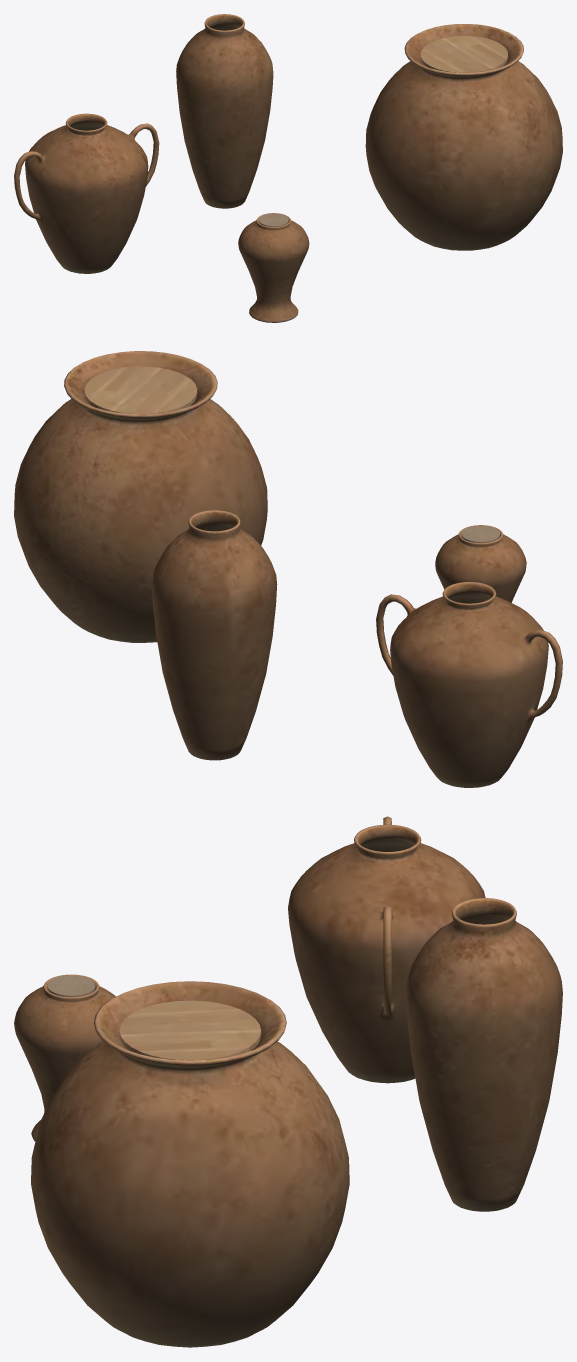
File: p_pots_old.glb
The picture shows the model from 3 angles, top to bottom: view 1: azimuth 30°, elevation 25°; view 2: azimuth 150°, elevation 25°; view 3: azimuth 270°, elevation 25°; orthographic projection. The views are drawn at different scales.
Parts seen in each view (by area): view 1: Pot_Large-Lid, Pot_Handles, Pot_SkinnyTall, Pot_Small-Lid, Lid_Large; view 2: Pot_Large-Lid, Pot_Handles, Pot_SkinnyTall, Lid_Large, Pot_Small-Lid, Lid_Small; view 3: Pot_Large-Lid, Pot_SkinnyTall, Pot_Handles, Lid_Large, Pot_Small-Lid, Lid_Small.
Boxes of the visible parts, bbox=[...] form: Pot_Large-Lid: bbox=[365, 24, 562, 250]; Pot_Handles: bbox=[14, 113, 159, 273]; Pot_SkinnyTall: bbox=[176, 14, 273, 208]; Pot_Small-Lid: bbox=[238, 213, 309, 322]; Lid_Large: bbox=[420, 35, 508, 72]; Pot_Large-Lid: bbox=[14, 351, 267, 642]; Pot_Handles: bbox=[376, 582, 562, 787]; Pot_SkinnyTall: bbox=[152, 510, 277, 760]; Lid_Large: bbox=[84, 366, 197, 414]; Pot_Small-Lid: bbox=[435, 525, 526, 602]; Lid_Small: bbox=[461, 525, 499, 542]; Pot_Large-Lid: bbox=[31, 981, 349, 1347]; Pot_SkinnyTall: bbox=[405, 898, 562, 1211]; Pot_Handles: bbox=[288, 816, 485, 1083]; Lid_Large: bbox=[119, 1000, 261, 1060]; Pot_Small-Lid: bbox=[14, 974, 115, 1141]; Lid_Small: bbox=[47, 975, 95, 996].
Size of the model in its own units: 184 by 67.66 by 115.
1 material, 1 textured.
